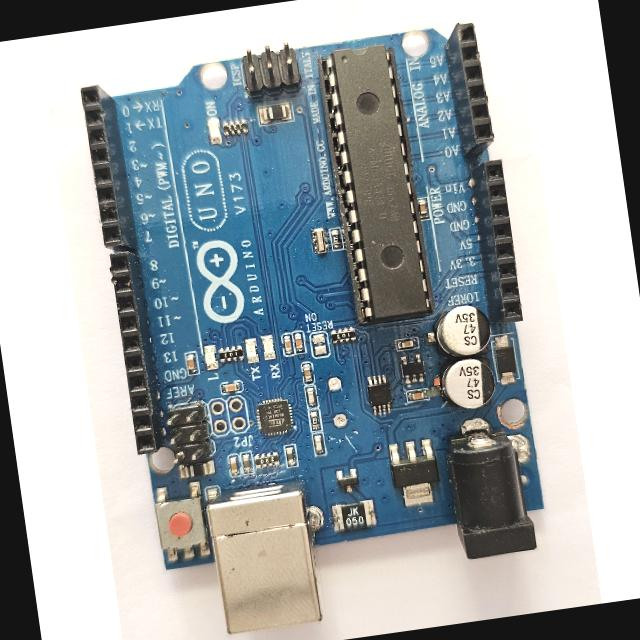missing_crystal_os: (313, 358, 366, 452)
